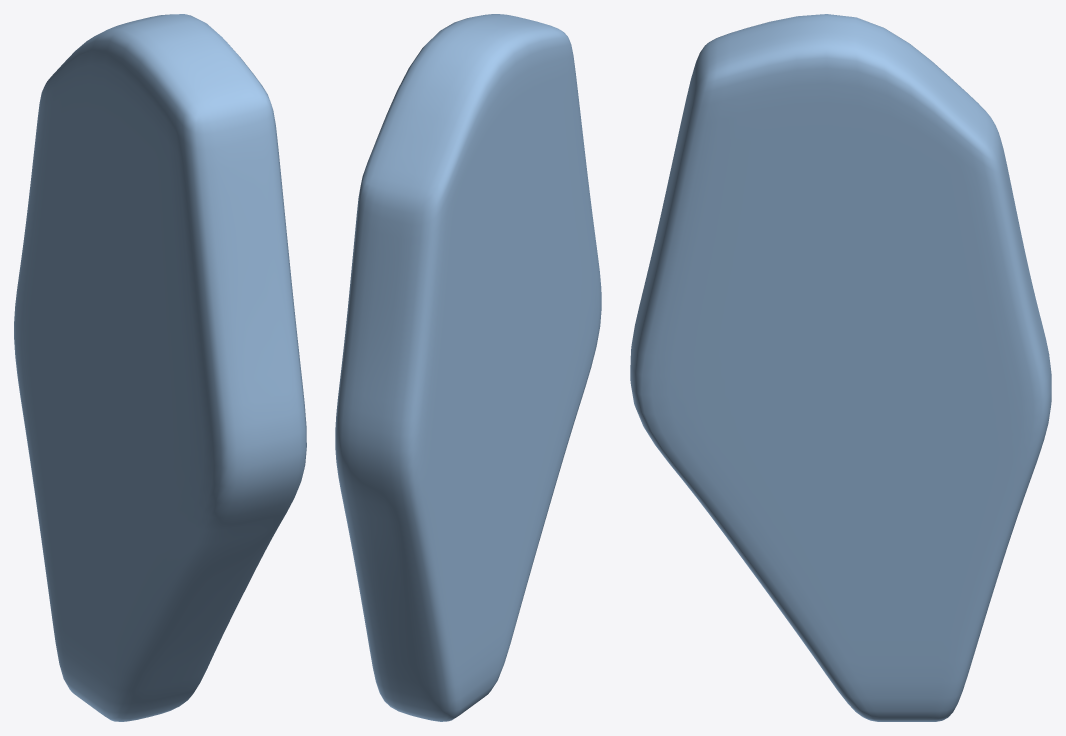
File: ice.fbx
3 views of the same model, side by side, from view 1: azimuth 30°, elevation 25°; view 2: azimuth 150°, elevation 25°; view 3: azimuth 270°, elevation 25° (orthographic). The views are drawn at different scales.
Visible parts, largest first — view 1: Ice; view 2: Ice; view 3: Ice.
Part boxes in pixels (left/top/right/bottom): Ice: left=14, top=14, right=306, bottom=721; Ice: left=335, top=14, right=601, bottom=721; Ice: left=630, top=14, right=1051, bottom=721.
Bounding box in the file's own units: 17.08 × 126 × 69.97.
